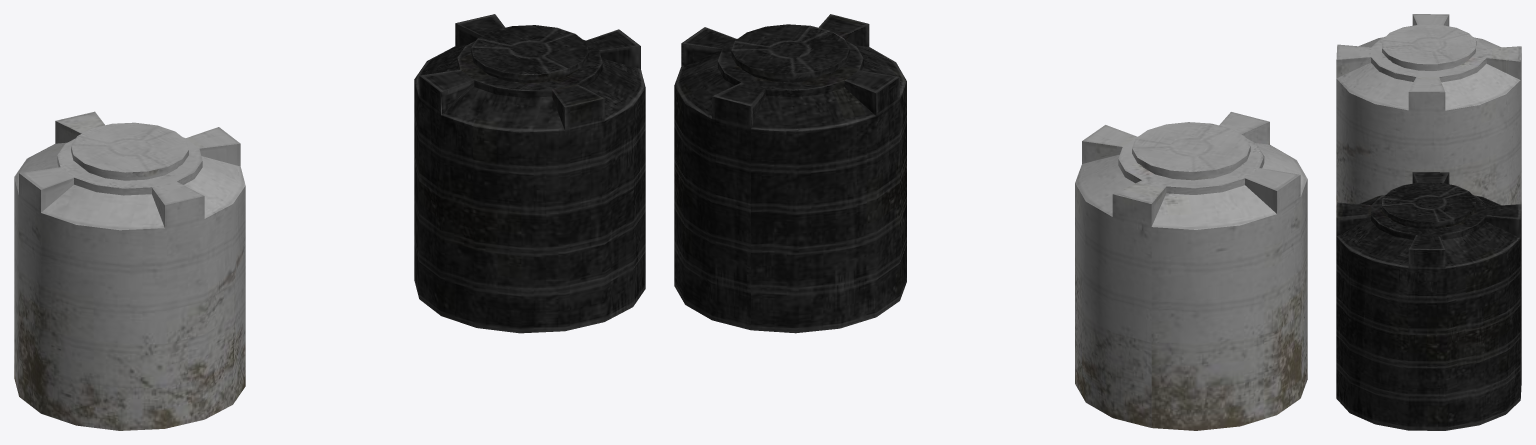
Rendered from water-tanks.glb.
The picture shows the model from 3 angles, left to right: view 1: azimuth 30°, elevation 25°; view 2: azimuth 150°, elevation 25°; view 3: azimuth 270°, elevation 25°; orthographic projection. The views are drawn at different scales.
Visible parts, largest first — view 1: tank_black, tank_white; view 2: tank_black, tank_white; view 3: tank_black, tank_white.
Boxes of the visible parts, x1,y1,x2,y2 form: tank_black: [414, 14, 645, 333]; tank_white: [14, 111, 245, 430]; tank_black: [674, 14, 906, 333]; tank_white: [1075, 112, 1307, 430]; tank_black: [1336, 172, 1521, 430]; tank_white: [1336, 14, 1521, 216].
Size of the model in its own units: 3.34 by 1.25 by 1.11.
Materials: 1 (1 with a texture image).
